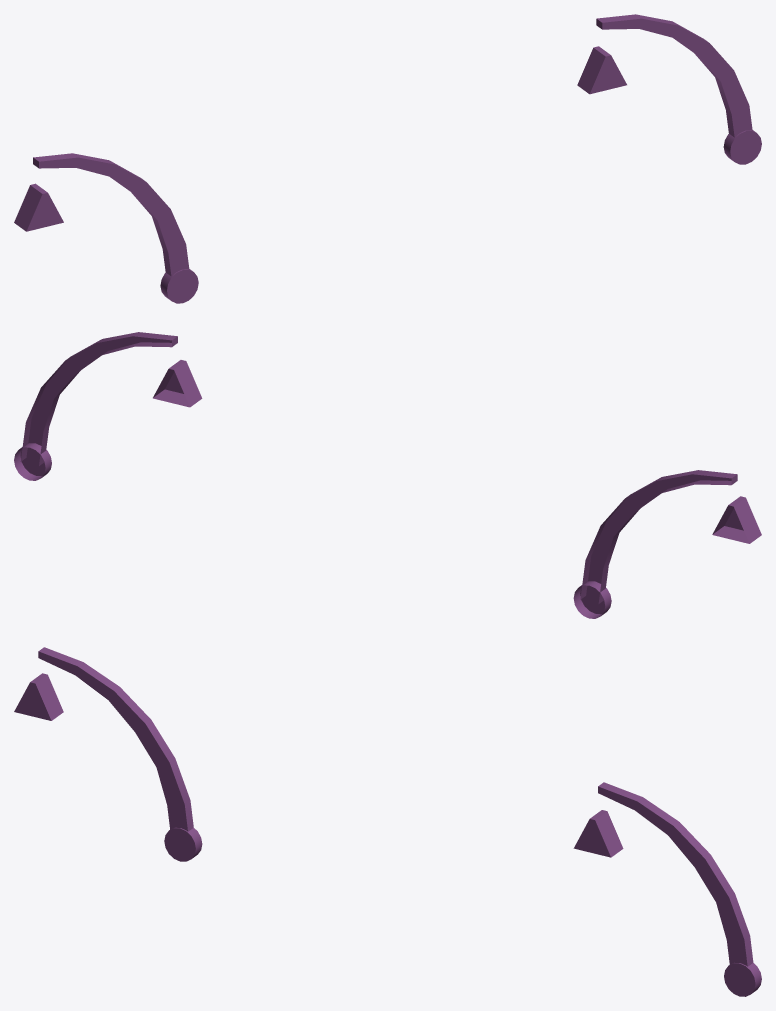
The model's file is stoveIndicators_lvl01.fbx.
3 views of the same model, one above another, from view 1: azimuth 30°, elevation 25°; view 2: azimuth 150°, elevation 25°; view 3: azimuth 330°, elevation 25° (orthographic).
Parts seen in each view (by area): view 1: indicator.001, indicator, stove_turner_arrow, stove_turner_arrow.001; view 2: indicator, indicator.001, stove_turner_arrow, stove_turner_arrow.001; view 3: indicator, indicator.001, stove_turner_arrow, stove_turner_arrow.001.
Boxes of the visible parts, box(x1,y1,x2,y2) form: indicator.001: box(596, 14, 761, 164); indicator: box(33, 153, 198, 303); stove_turner_arrow: box(14, 183, 63, 231); stove_turner_arrow.001: box(577, 46, 626, 94); indicator: box(573, 470, 737, 618); indicator.001: box(14, 332, 177, 480); stove_turner_arrow: box(712, 496, 761, 543); stove_turner_arrow.001: box(153, 360, 202, 407); indicator: box(38, 647, 202, 861); indicator.001: box(598, 782, 761, 996); stove_turner_arrow: box(14, 673, 63, 720); stove_turner_arrow.001: box(573, 810, 623, 857).
Size of the model in its own units: 0.5283 by 0.121 by 0.0153.
